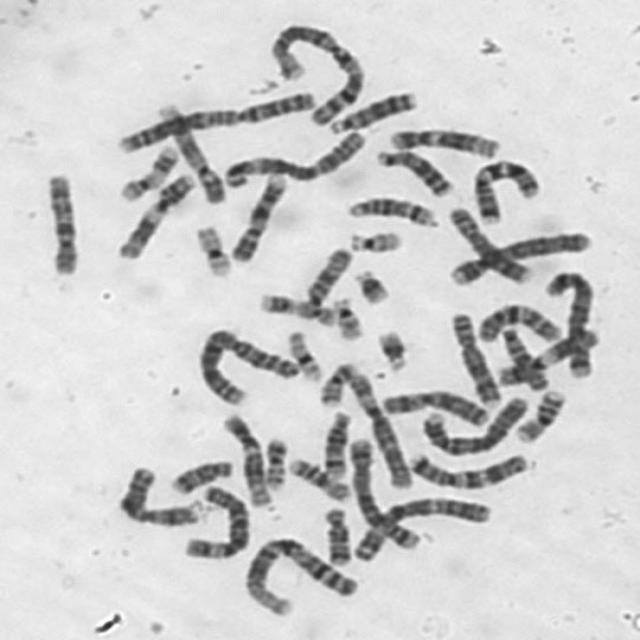A1: (264, 20, 368, 128), (240, 532, 359, 618)
A2: (110, 88, 319, 156), (192, 322, 302, 408)
A3: (347, 493, 494, 564), (219, 126, 369, 190)
B4: (444, 227, 594, 287), (417, 392, 530, 458)
B5: (346, 434, 421, 550), (538, 266, 596, 380)
C10: (41, 169, 82, 278), (473, 298, 564, 345)
C11: (112, 172, 196, 262), (493, 326, 601, 387)
C12: (220, 410, 272, 509), (386, 124, 501, 160)
C6: (344, 369, 414, 490), (179, 480, 251, 561)
C7: (404, 448, 530, 491), (468, 156, 543, 227)
C8: (444, 204, 534, 286), (446, 310, 501, 408)
C9: (154, 100, 228, 206), (226, 170, 288, 264)
D13: (325, 87, 418, 135), (372, 145, 453, 198)
D14: (344, 193, 439, 229), (318, 408, 353, 480)
D15: (300, 244, 354, 309), (498, 325, 550, 392)
E16: (284, 454, 352, 503), (512, 387, 567, 443)
E17: (115, 143, 180, 202), (255, 289, 336, 327)
E18: (166, 455, 236, 495), (319, 503, 353, 566)
F19: (190, 222, 234, 279), (284, 327, 325, 384)
F20: (315, 359, 359, 408), (260, 434, 290, 492)
G21: (374, 327, 412, 372), (352, 265, 391, 307)
G22: (330, 295, 365, 342), (345, 227, 405, 254)
X: (114, 464, 205, 527), (376, 386, 490, 427)
